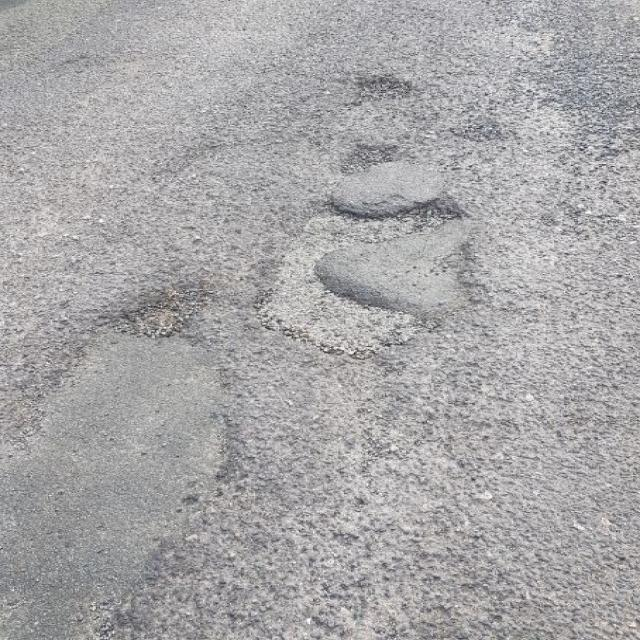pothole: (244, 185, 488, 355)
